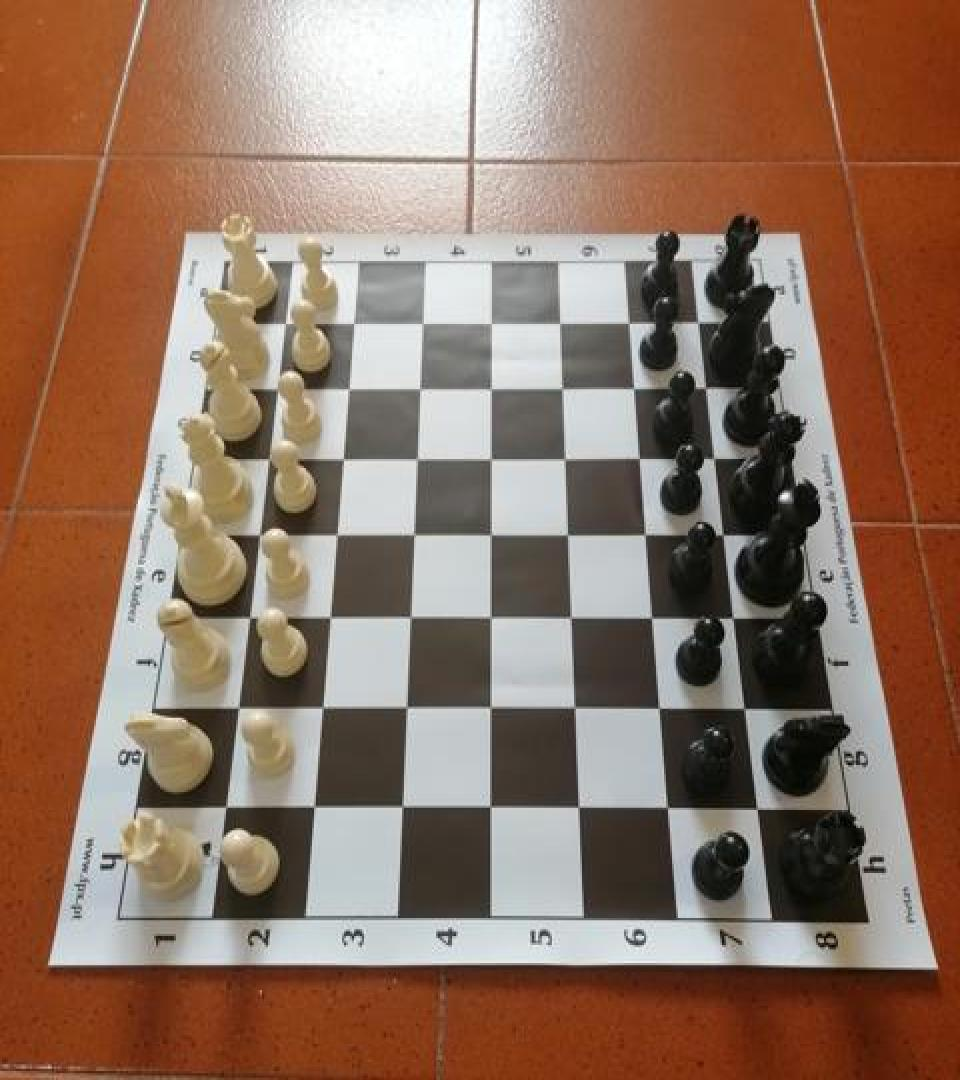xcorner: (689, 305, 719, 339), (618, 305, 648, 339), (548, 305, 578, 339), (478, 305, 508, 339), (408, 305, 438, 339), (339, 306, 369, 340), (269, 306, 299, 340), (696, 371, 726, 405), (623, 371, 653, 405), (551, 371, 581, 405), (478, 372, 508, 406), (406, 372, 436, 406), (333, 372, 363, 406), (261, 372, 291, 406), (704, 443, 734, 477), (629, 443, 659, 477), (553, 443, 583, 477), (478, 444, 508, 478), (403, 444, 433, 478), (328, 444, 358, 478), (253, 444, 283, 478), (713, 521, 743, 555), (634, 521, 664, 555), (556, 521, 586, 555), (478, 521, 508, 555), (399, 522, 429, 556), (321, 522, 351, 556), (243, 522, 273, 556), (722, 605, 752, 639), (640, 605, 670, 639), (559, 605, 589, 639), (477, 605, 507, 639), (396, 605, 426, 639), (315, 605, 345, 639), (233, 605, 263, 639), (732, 696, 762, 730), (647, 696, 677, 730), (562, 696, 592, 730), (477, 696, 507, 730), (392, 696, 422, 730), (307, 696, 337, 730), (223, 696, 253, 730), (743, 796, 773, 830), (654, 796, 684, 830), (565, 796, 595, 830), (476, 796, 506, 830), (388, 795, 418, 829), (299, 795, 329, 829), (211, 795, 241, 829)
